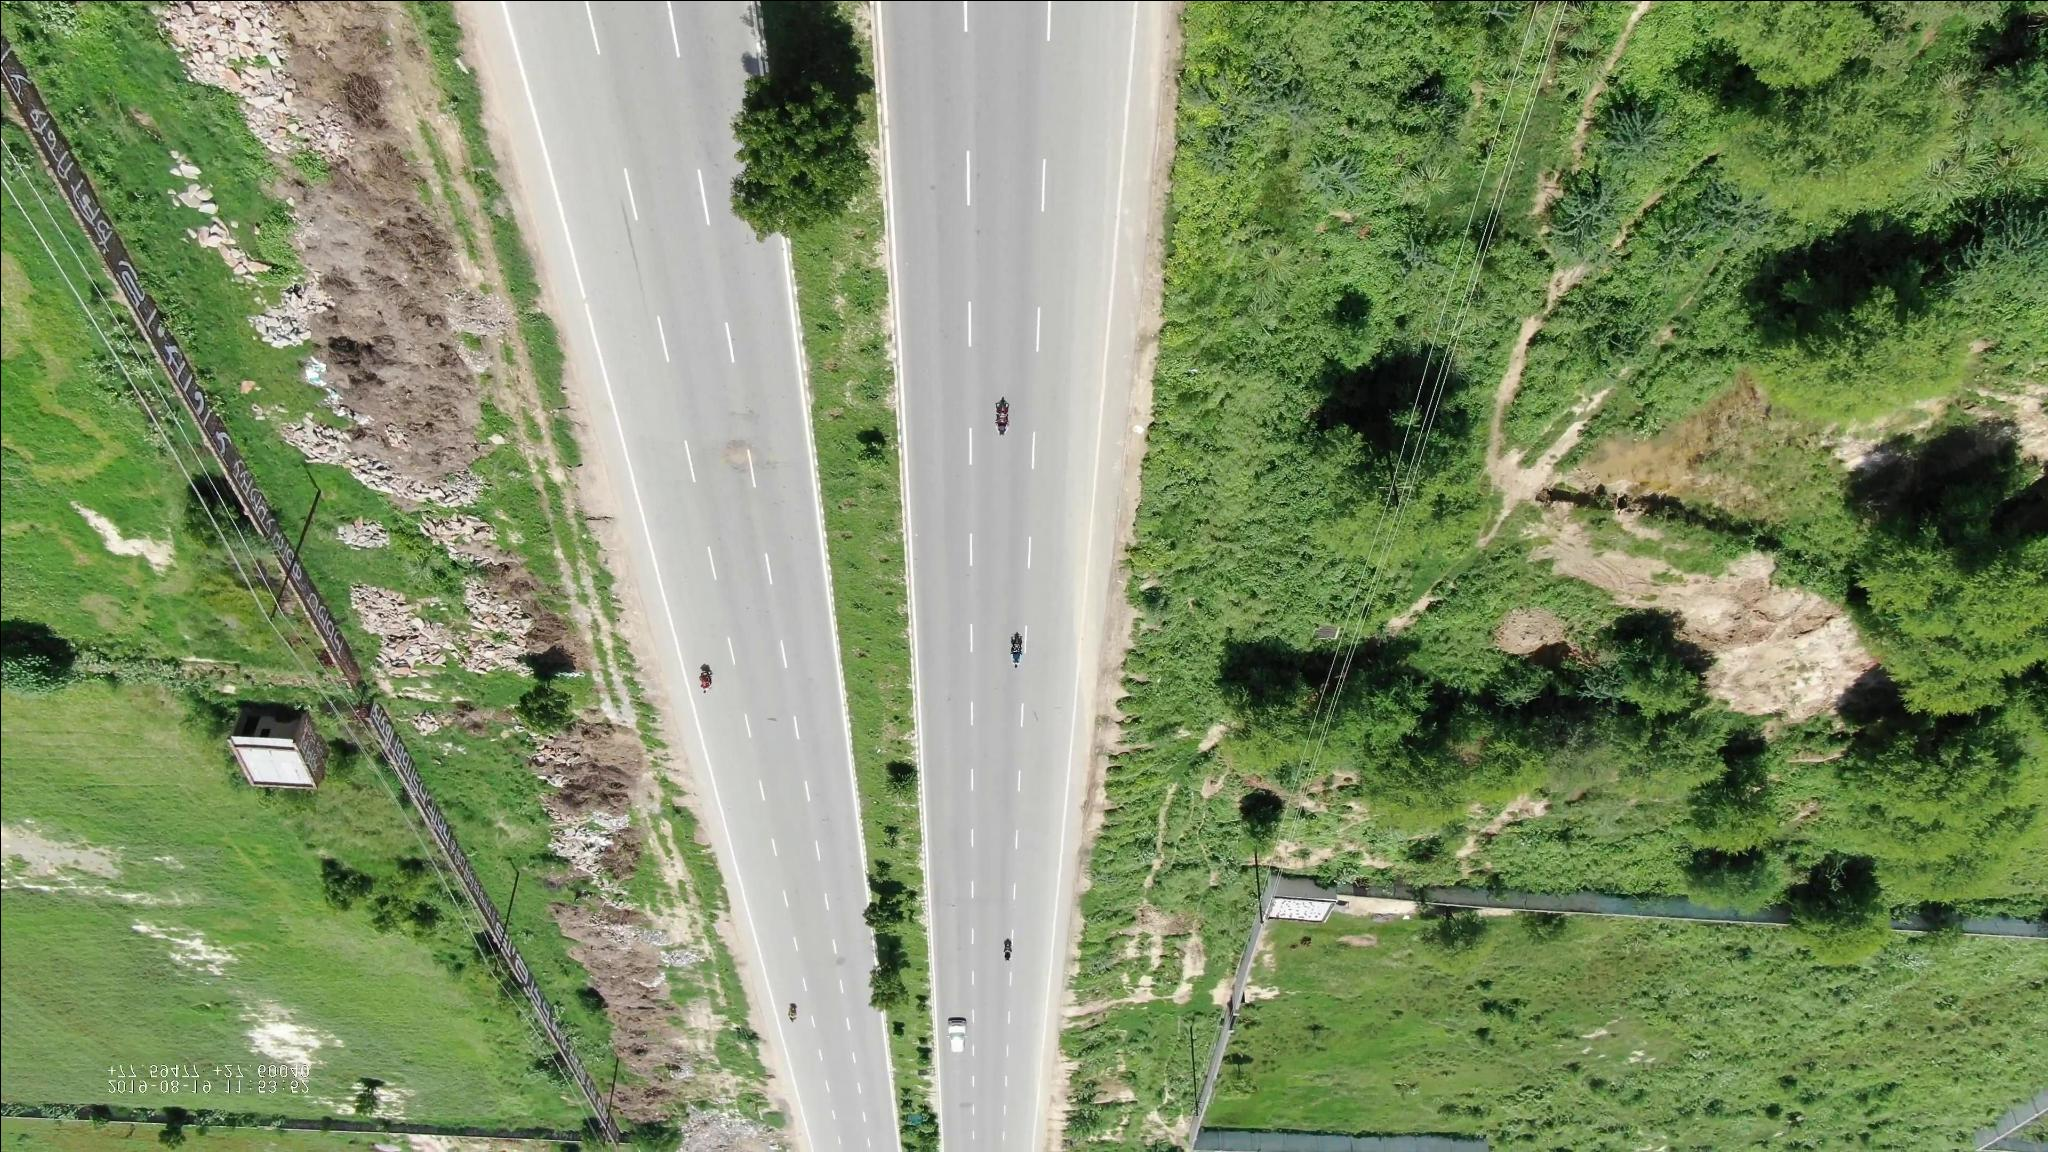Potholes: (702, 426, 769, 482)
